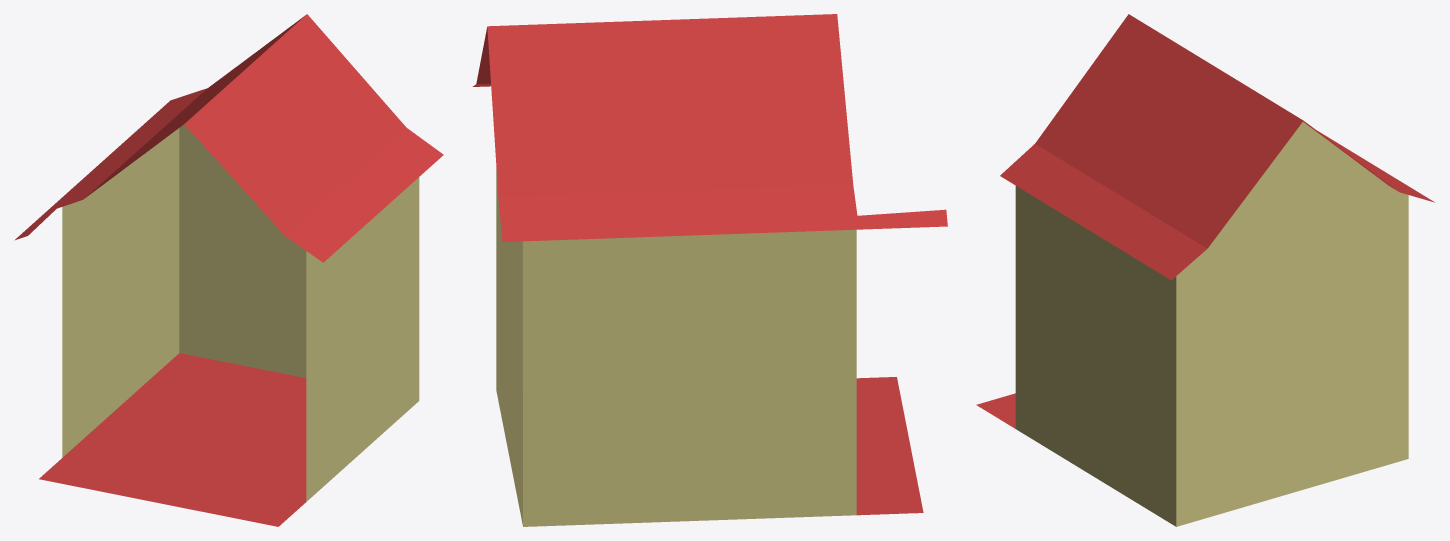
3 views of the same model, side by side, from view 1: azimuth 30°, elevation 25°; view 2: azimuth 150°, elevation 25°; view 3: azimuth 270°, elevation 25° (orthographic). The views are drawn at different scales.
Bounding box in the file's own units: 19.23 × 17.52 × 15.94.
